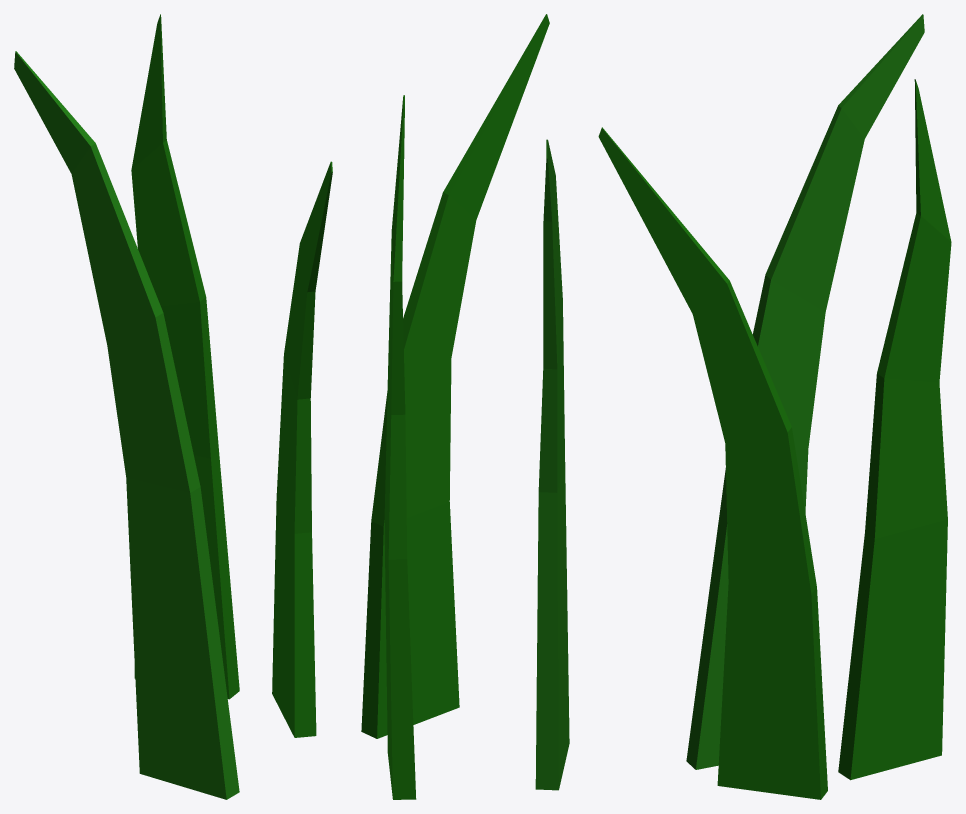
File: Grass(5).fbx
3 views of the same model, side by side, from view 1: azimuth 30°, elevation 25°; view 2: azimuth 150°, elevation 25°; view 3: azimuth 270°, elevation 25° (orthographic). The views are drawn at different scales.
Parts seen in each view (by area): view 1: Grass(5); view 2: Grass(5); view 3: Grass(5).
Part boxes in pixels (box(x1,y1,x2,y2)): Grass(5): box(14, 14, 332, 799); Grass(5): box(361, 14, 569, 799); Grass(5): box(598, 14, 951, 799).
Size of the model in its own units: 0.2337 by 0.6741 by 0.3059.
